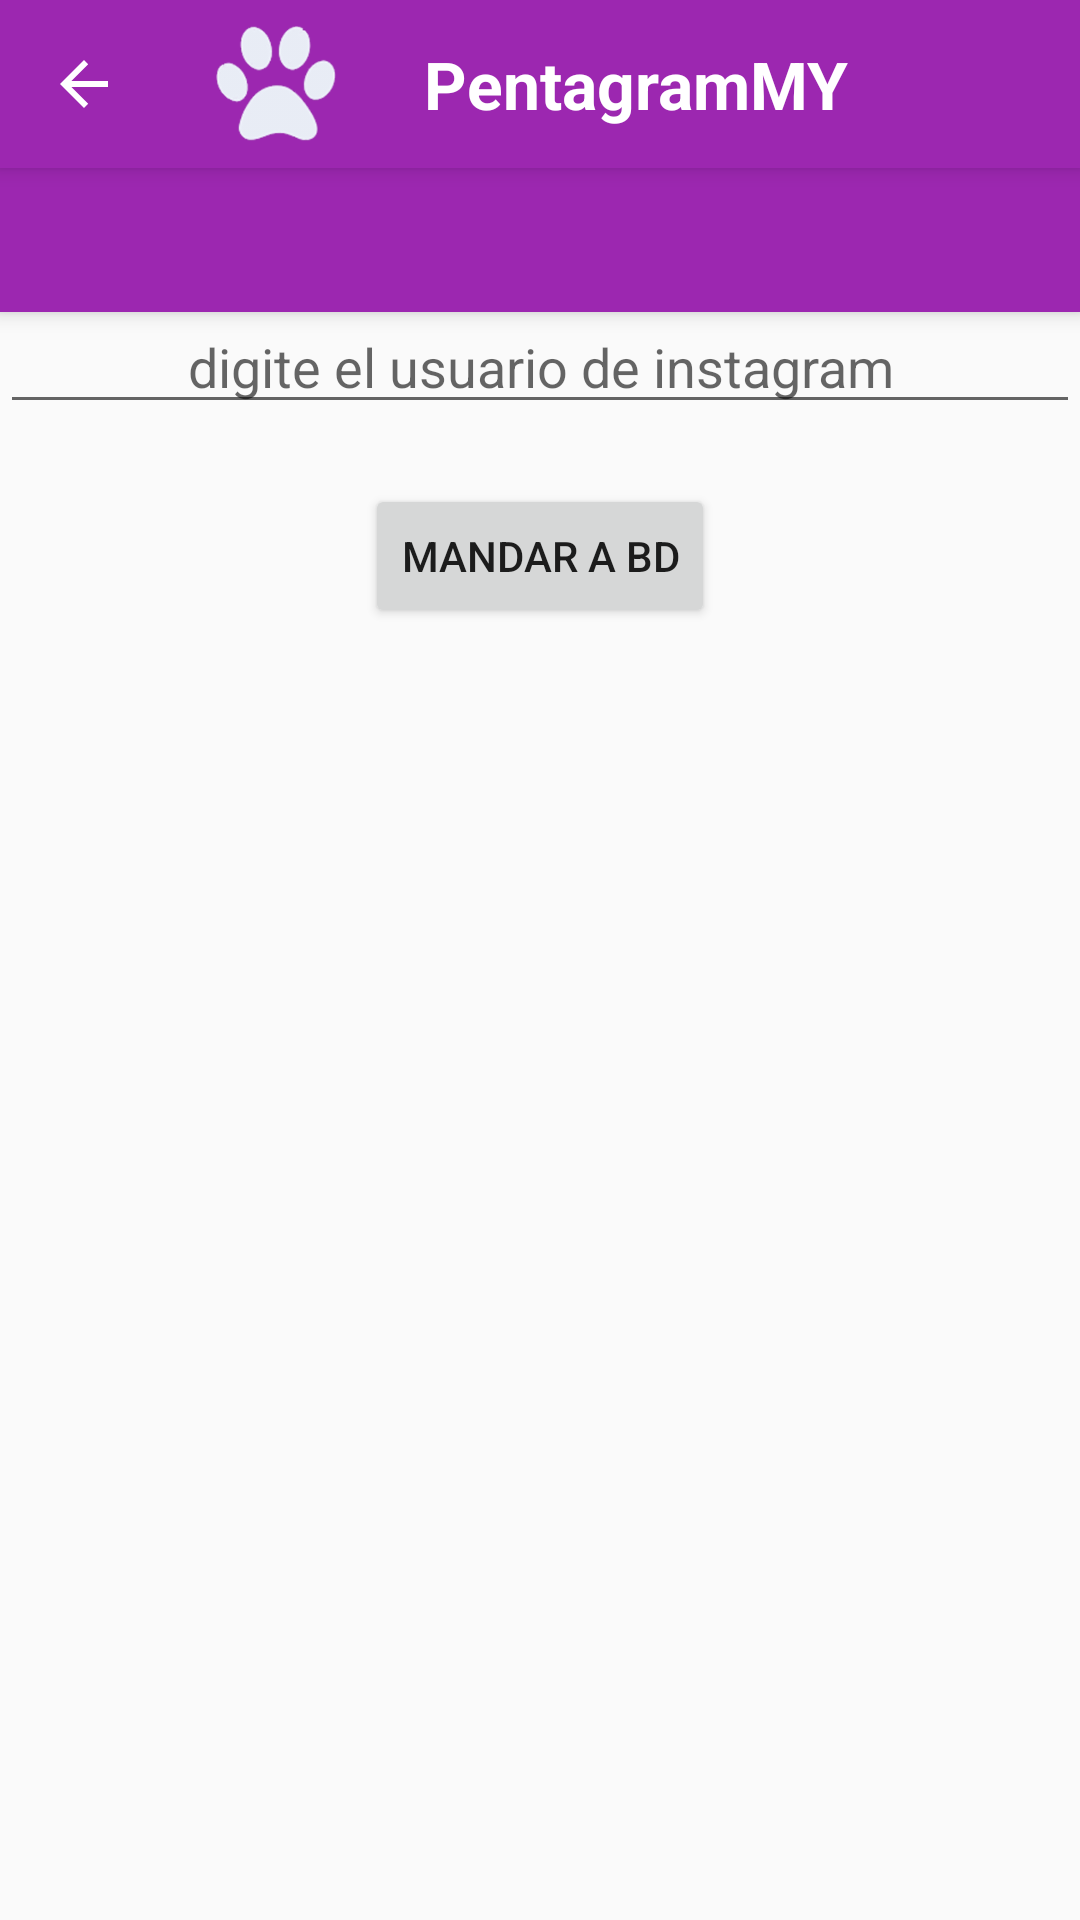

Named icons in this screenshot (1080px x 1920px) and their centers, (x=x, y=y):
huellapet: (x=276, y=83)
